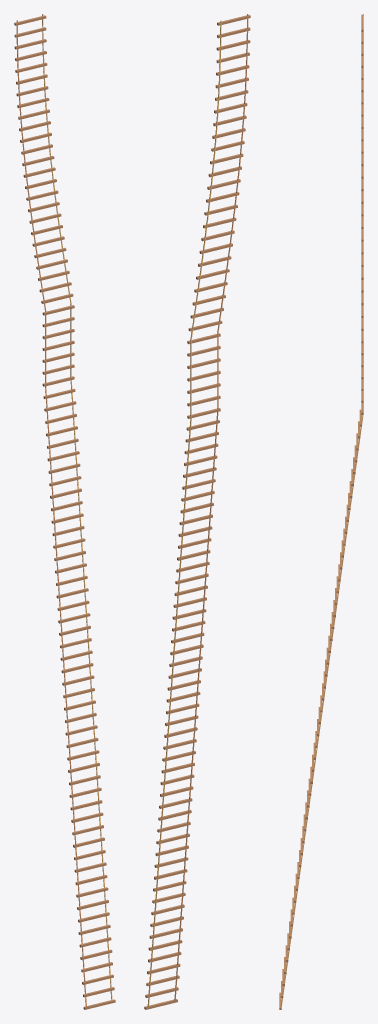
Rendered from Build_Accelerate.fbx.
The picture shows the model from 3 angles, left to right: view 1: azimuth 30°, elevation 25°; view 2: azimuth 210°, elevation 25°; view 3: azimuth 270°, elevation 25°; orthographic projection. The views are drawn at different scales.
Parts seen in each view (by area): view 1: Build_Accelerate; view 2: Build_Accelerate; view 3: Build_Accelerate.
Boxes of the visible parts, x1=… form: Build_Accelerate: x1=14, y1=14, x2=115, y2=1009; Build_Accelerate: x1=144, y1=14, x2=250, y2=1009; Build_Accelerate: x1=279, y1=14, x2=363, y2=1009.
Bounding box in the file's own units: 4.16 × 65.07 × 5.15.
